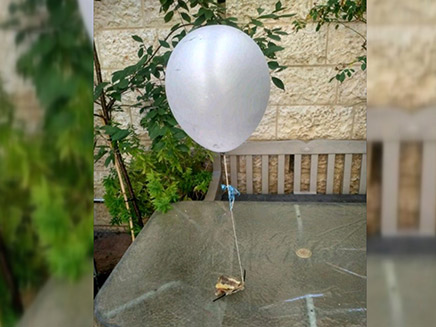Balloon: (165, 24, 270, 153)
